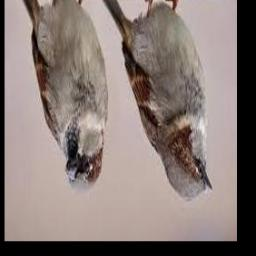Sparrow: (96, 0, 212, 200), (12, 0, 109, 195)
